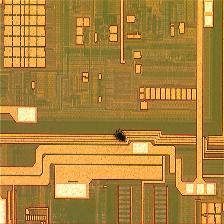PARTICLE: (112, 128, 132, 148)
